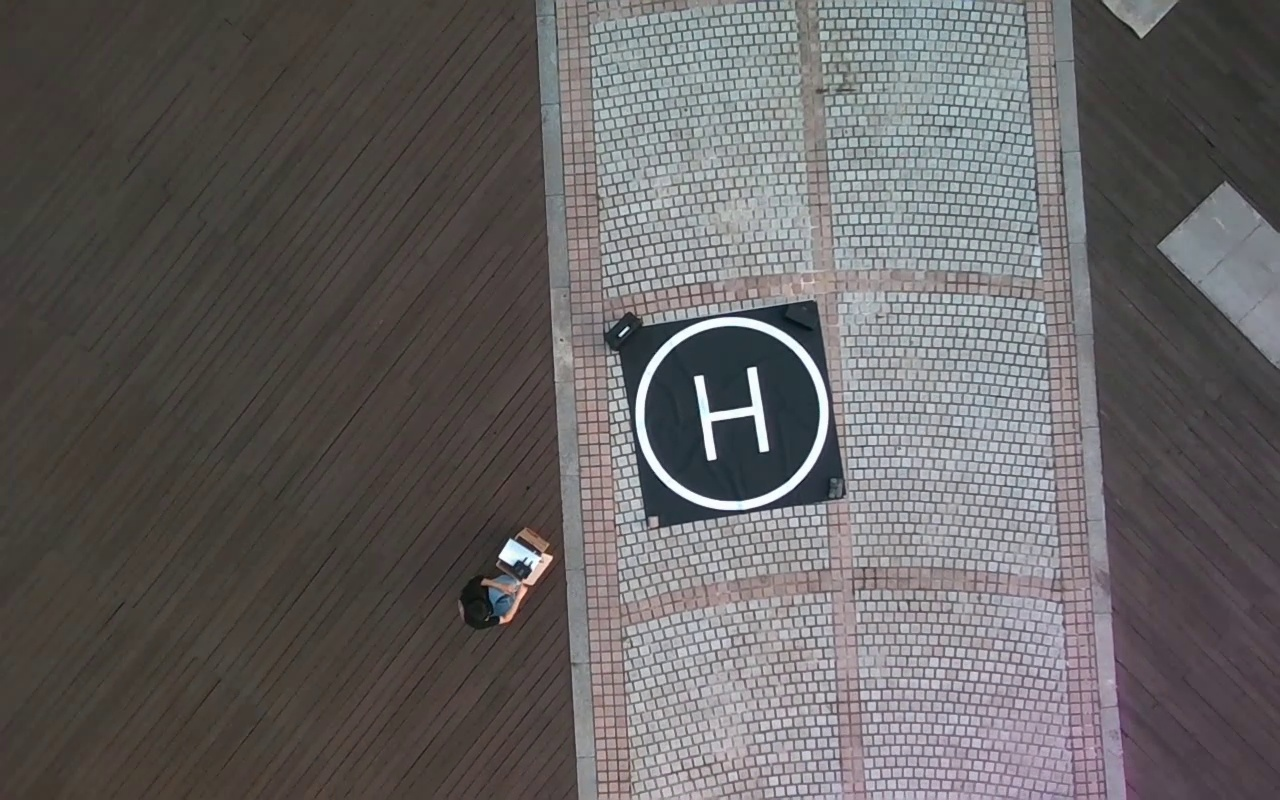H: (694, 364, 770, 462)
heliport: (636, 312, 829, 508)
